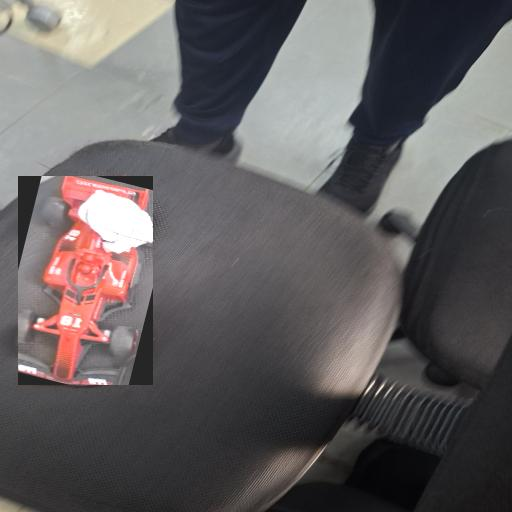carro: (18, 177, 150, 385)
